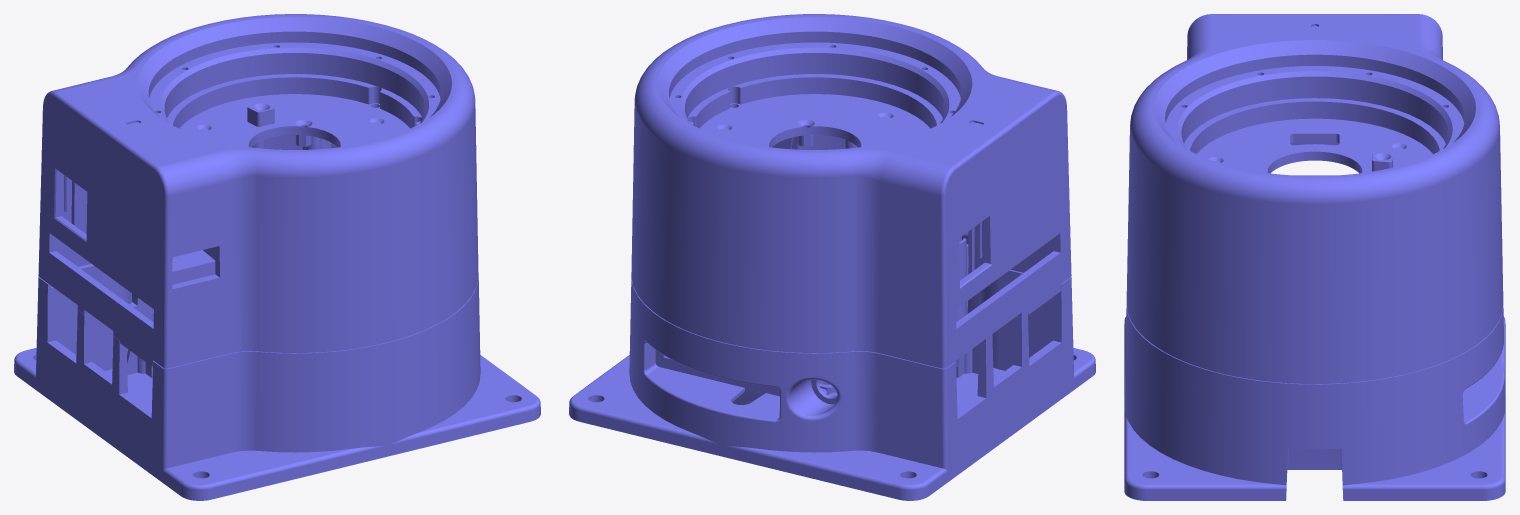
3 views of the same model, side by side, from view 1: azimuth 30°, elevation 25°; view 2: azimuth 150°, elevation 25°; view 3: azimuth 270°, elevation 25° (orthographic). The views are drawn at different scales.
Visible parts, largest first — view 1: Brep (×2); view 2: Brep (×2); view 3: Brep (×2).
Boxes of the visible parts, <box> form: Brep (×2): <box>14,14,540,500</box>; Brep (×2): <box>569,14,1095,500</box>; Brep (×2): <box>1124,14,1505,500</box>.
Bounding box in the file's own units: 103 × 92.93 × 84.
